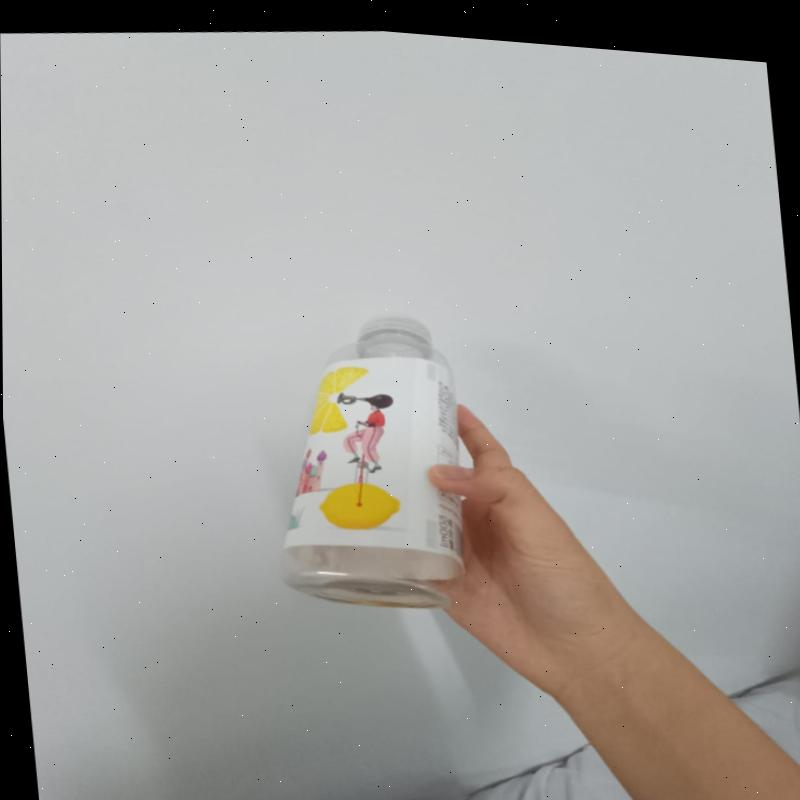botella: (250, 290, 483, 627)
